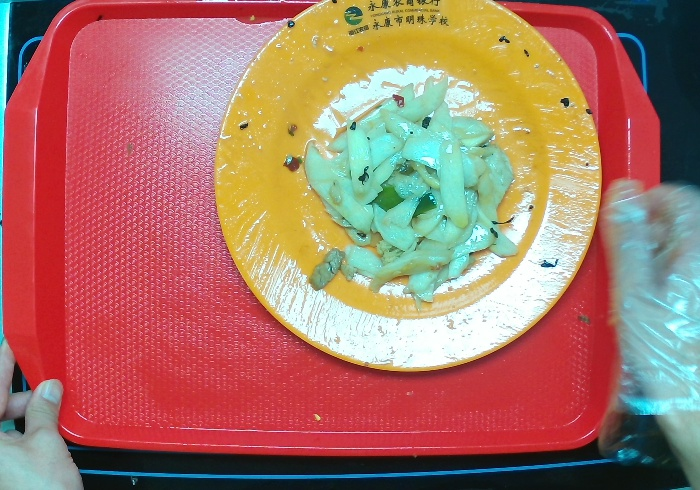YKMZ-Ju_Se_Mian_Pan: (186, 1, 629, 384)
